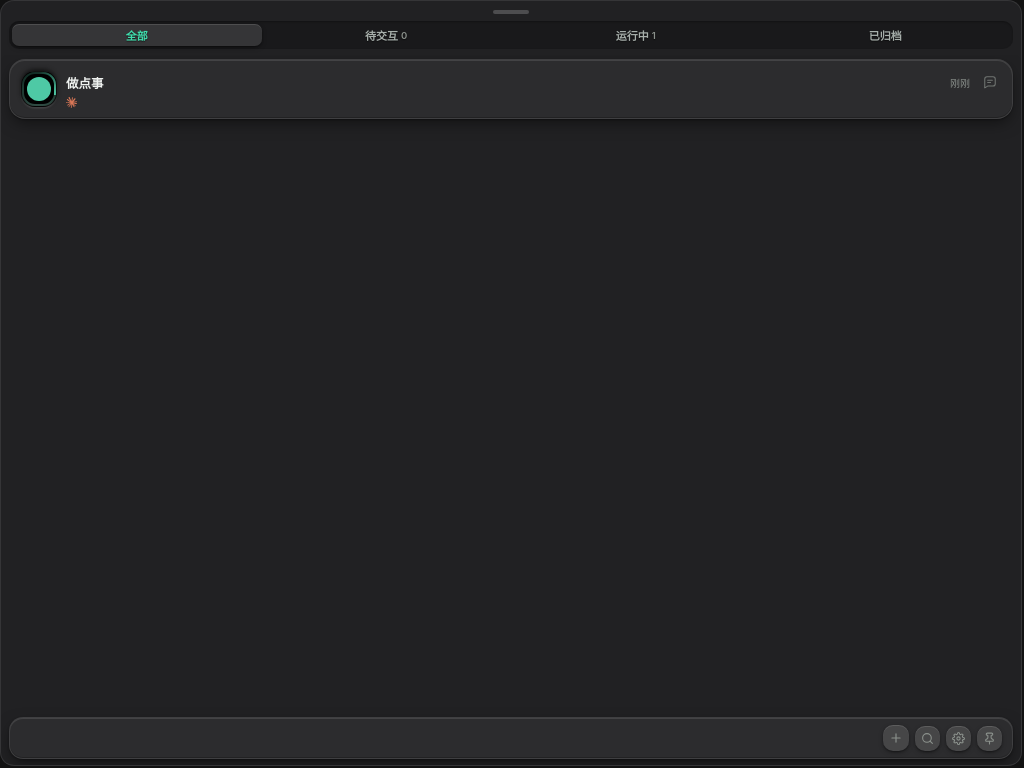
Test: Sticker › 无便签时经右键菜单打开编辑框
Step 1. Right-click the button with class "stk-card" → [39, 89], box [9,59,1013,119]
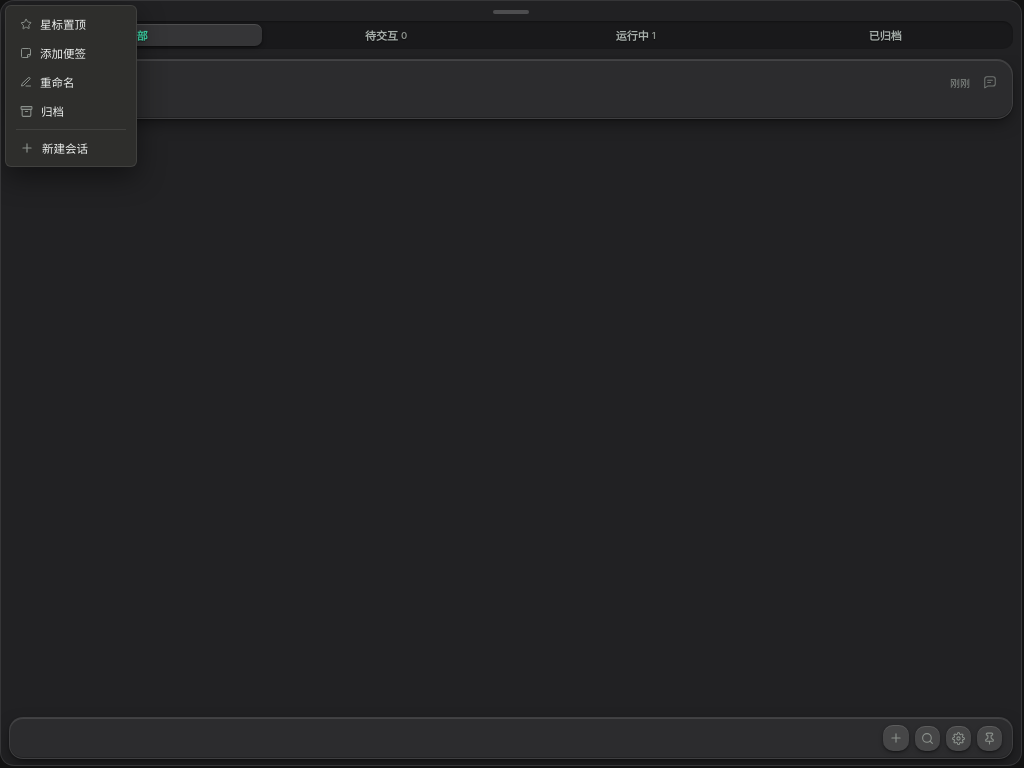
Step 2. Click the menu item "添加便签" → [71, 53], box [10,39,132,67]
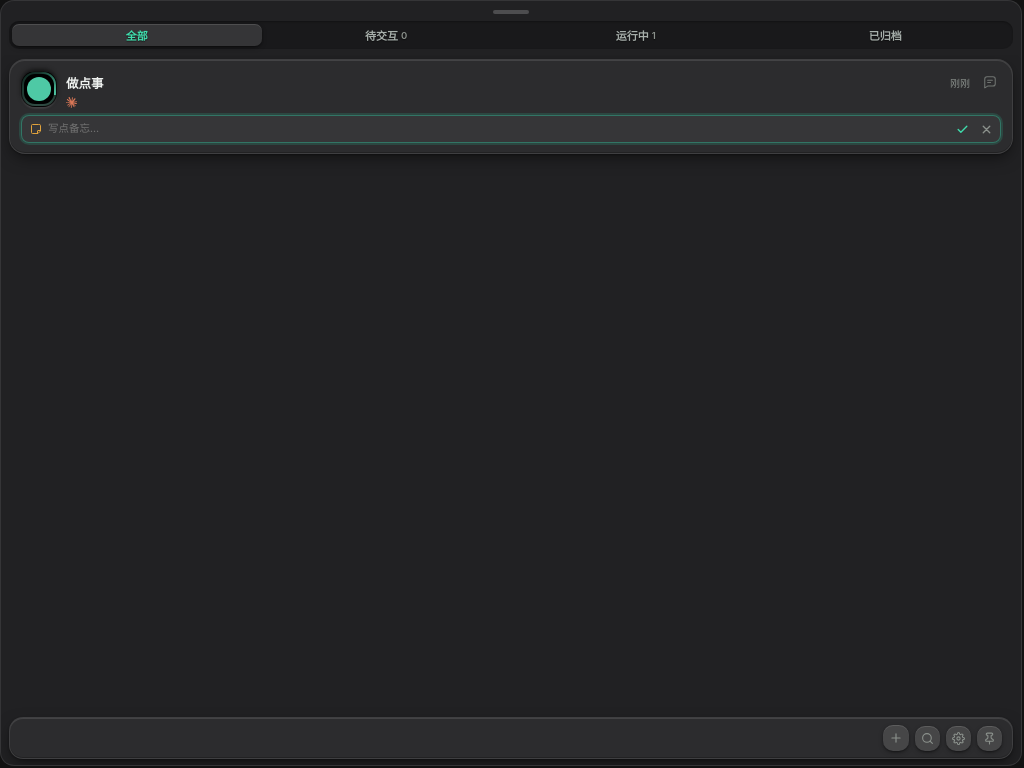
Expected: the field with class "stk-note-edit" is shown, [48,118,949,140]
